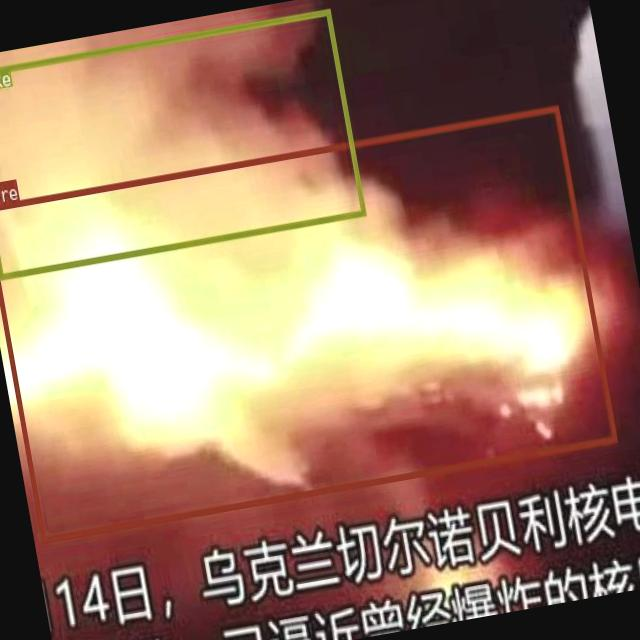fire: (0, 105, 616, 541)
smoke: (0, 7, 365, 278)
